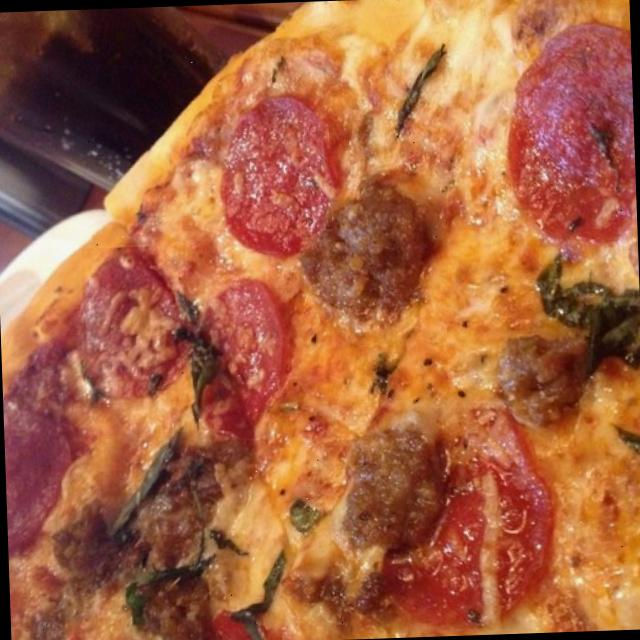basil: (538, 253, 640, 463), (101, 432, 186, 536), (120, 555, 217, 622), (390, 42, 450, 134), (233, 553, 292, 640), (186, 329, 218, 418), (359, 344, 408, 400), (286, 498, 331, 532)
pepperoni: (378, 395, 552, 629), (502, 15, 638, 253), (215, 88, 341, 262), (80, 244, 190, 406), (188, 278, 292, 440), (3, 396, 84, 556)
pizza: (0, 0, 640, 640)
